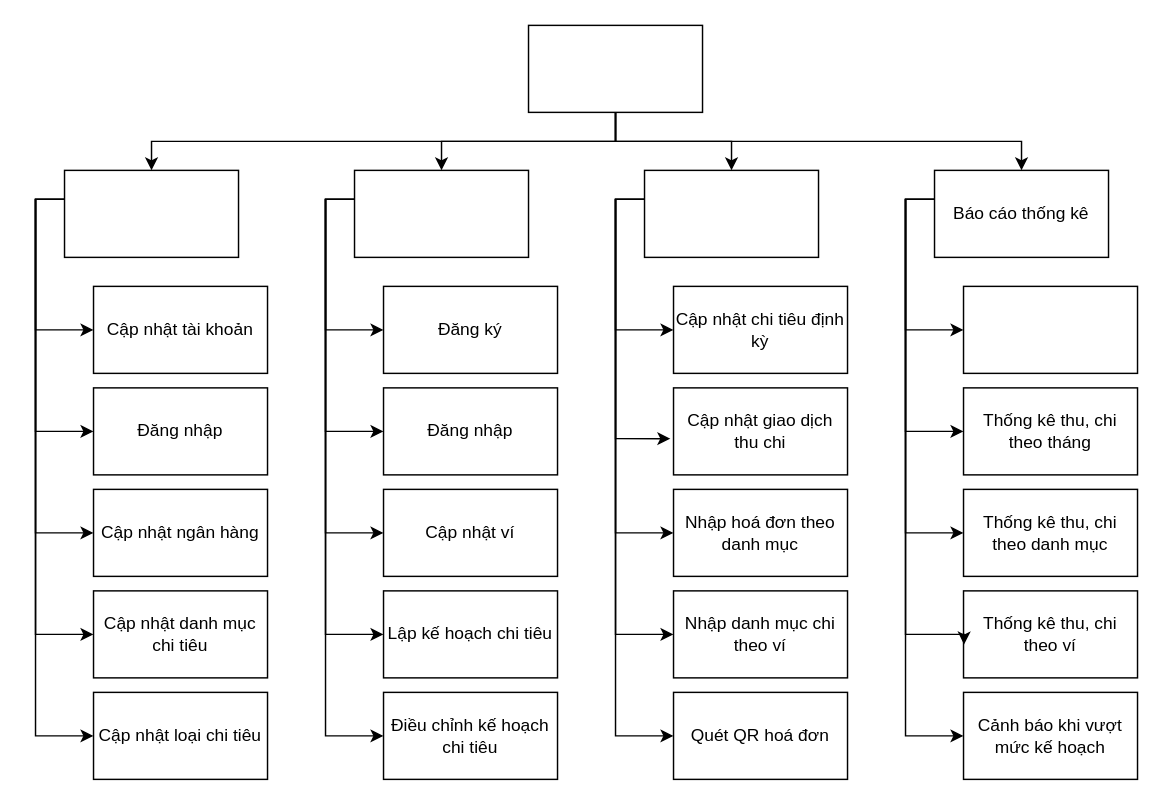
Image size: 1163x805. Some labels were removed from this diagram. The shapes that lost their labels are listed below. From the top down, each one's centre as x and y in pixels, then its label:
At (x=615, y=68): "Quản lý tài chính cá nhân".
At (x=151, y=213): "Quản lý hệ thống".
At (x=441, y=213): "Quản lý kế hoạch chi tiêu".
At (x=731, y=213): "Quản lý giao dịch".
At (x=1050, y=329): "Thống kê thu, chi theo ngày".
